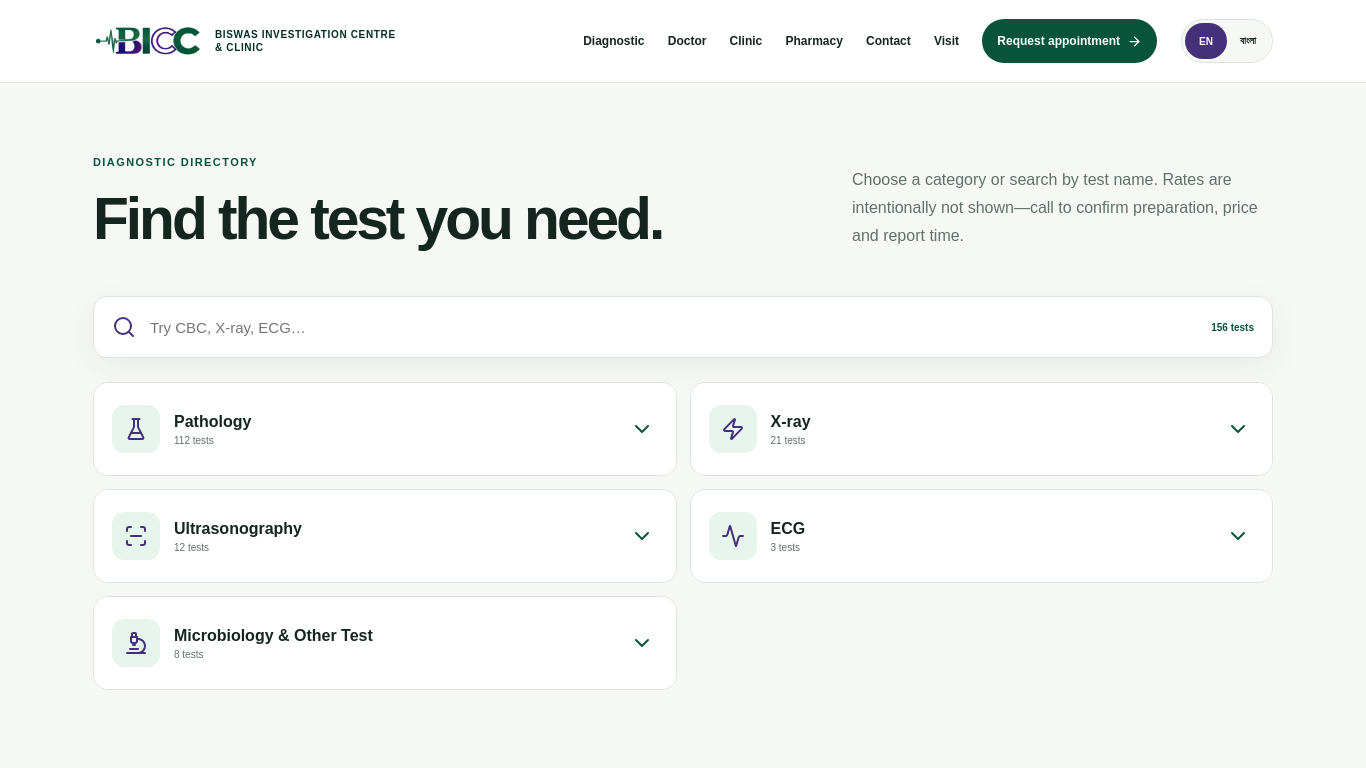
Test: publishes all 156 tests behind searchable expandable categories
(page scrolled)
Click the button with class "directory-card-toggle" showing "X-ray 21 tests".
click(732, 429)  # box [690,383,1272,475]
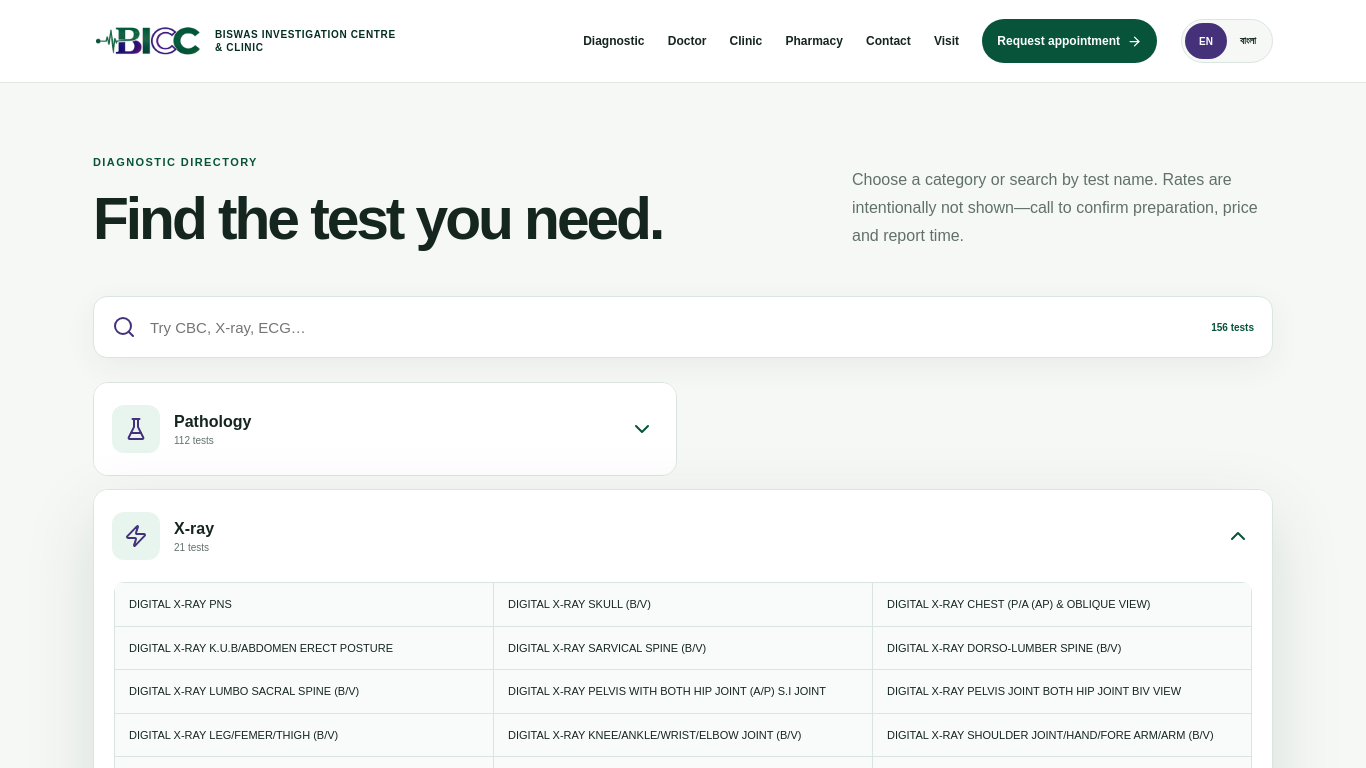
Now the text "DIGITAL X-RAY PNS" is shown, box [115,583,493,626]
